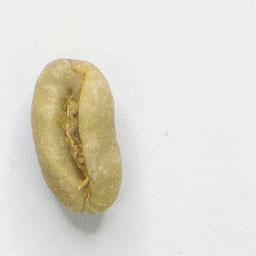longberry: (27, 53, 126, 218)
